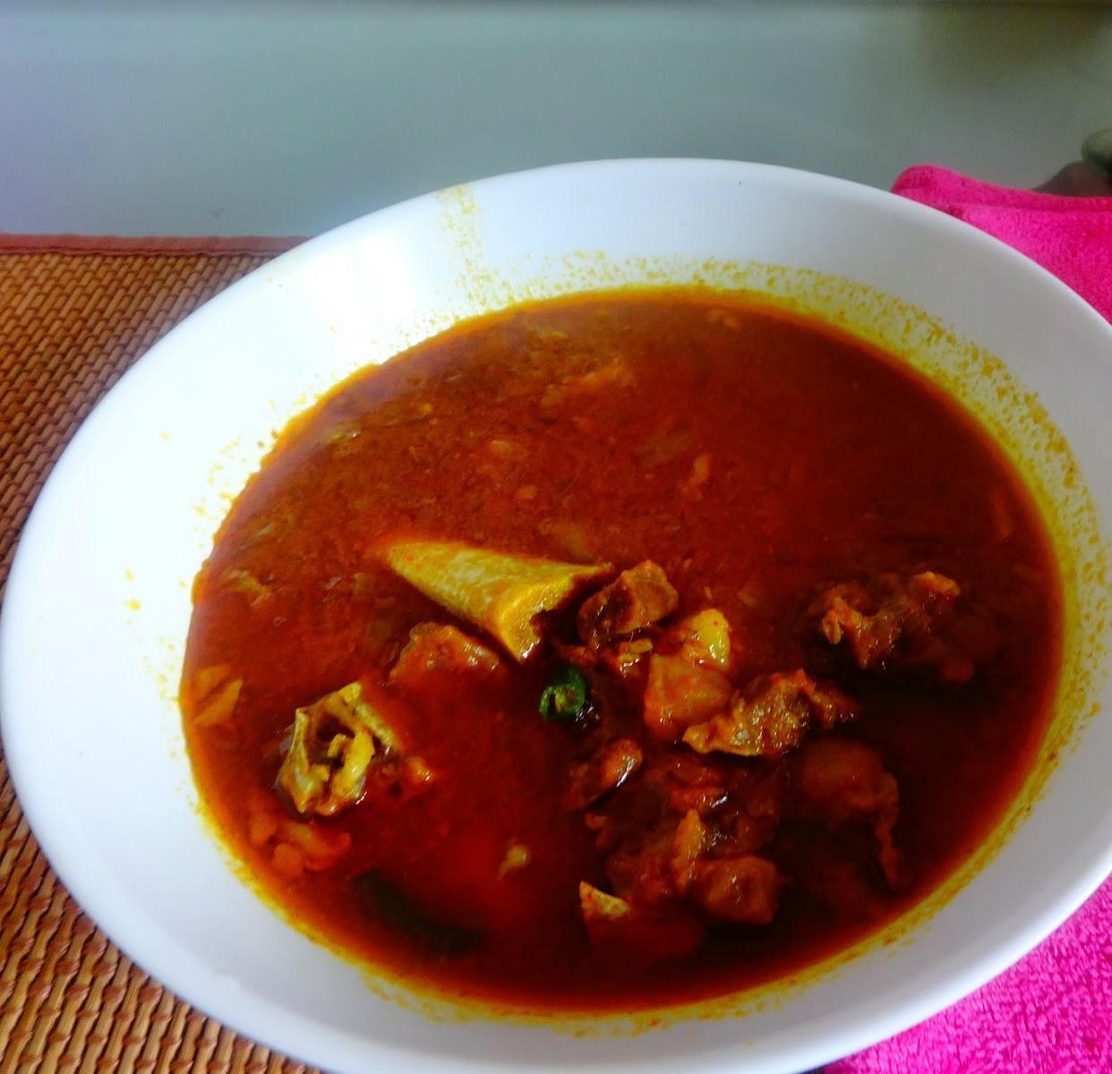MuttonCurry: (184, 288, 1061, 1007)
